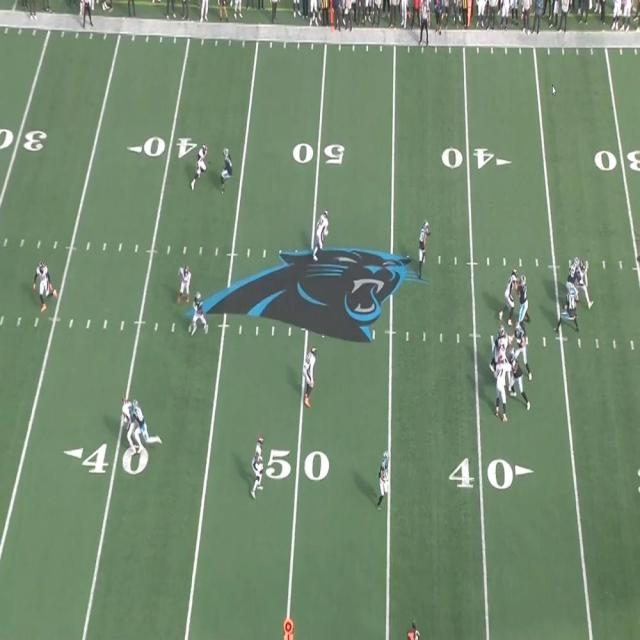db: (120, 393, 136, 454), (36, 262, 51, 310), (195, 144, 211, 186), (252, 436, 263, 491), (178, 264, 190, 303)
lb: (302, 348, 316, 407), (317, 209, 331, 253)
qb: (562, 285, 576, 339)
skill: (377, 450, 391, 509), (133, 399, 147, 454), (420, 222, 430, 280), (223, 146, 234, 189), (194, 294, 204, 332)
